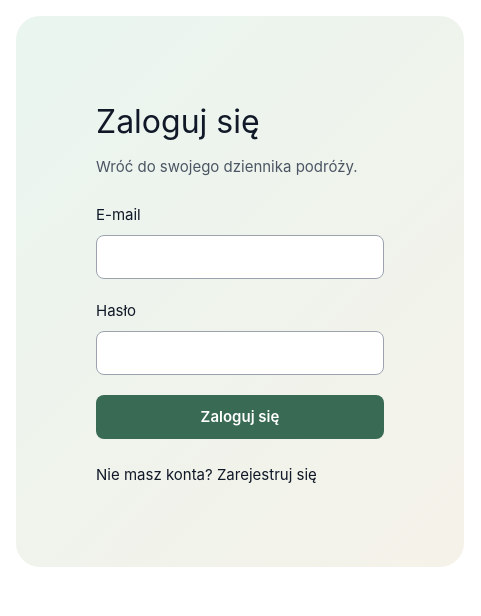
Test case: LoginView › rejects a missing password before submitting
The image size is (481, 616).
Type "ala@example.com" into the field with id "email".
click(240, 257); type("ala@example.com")  # box 96,235 -> 384,279
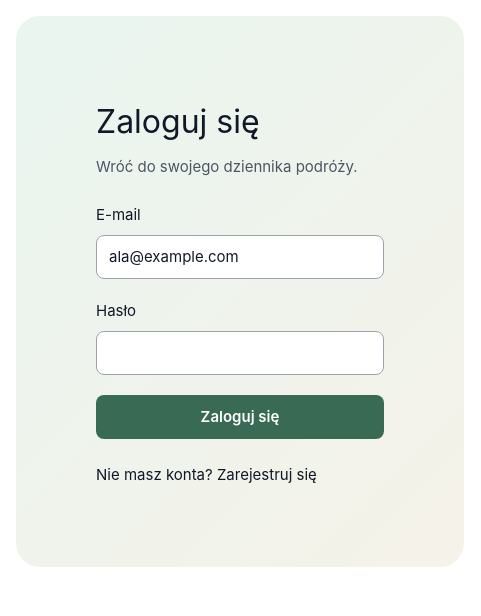
Submit the form, box 96,203 -> 384,439
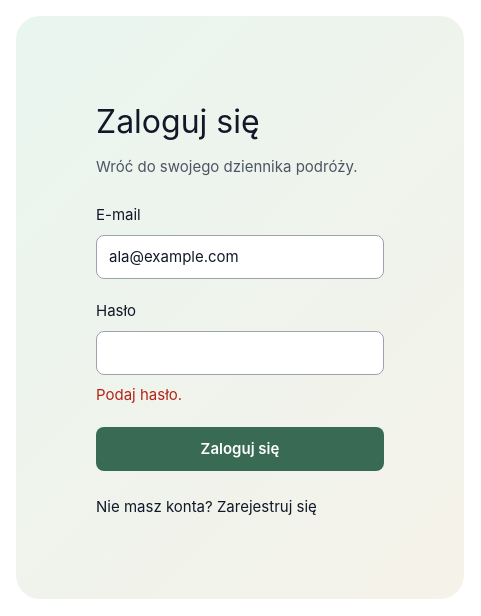
Now the text "Podaj hasło." is shown, box 96,385 -> 182,404
